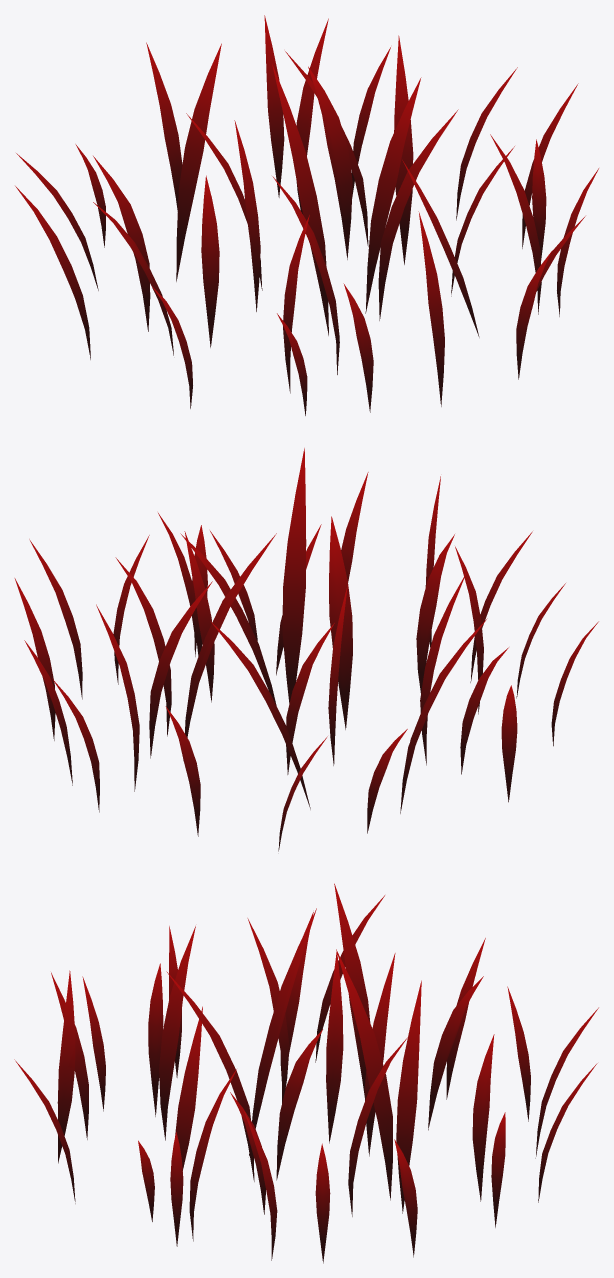
Rendered from grass.fbx.
3 renders of one model, top to bottom at view 1: azimuth 30°, elevation 25°; view 2: azimuth 150°, elevation 25°; view 3: azimuth 270°, elevation 25°, orthographic. The views are drawn at different scales.
Parts seen in each view (by area): view 1: Grass; view 2: Grass; view 3: Grass.
Part boxes in pixels (x1=…): Grass: x1=15, y1=15, x2=598, y2=415; Grass: x1=14, y1=448, x2=598, y2=851; Grass: x1=14, y1=883, x2=598, y2=1263.
Size of the model in its own units: 3.37 by 1.62 by 3.39.
